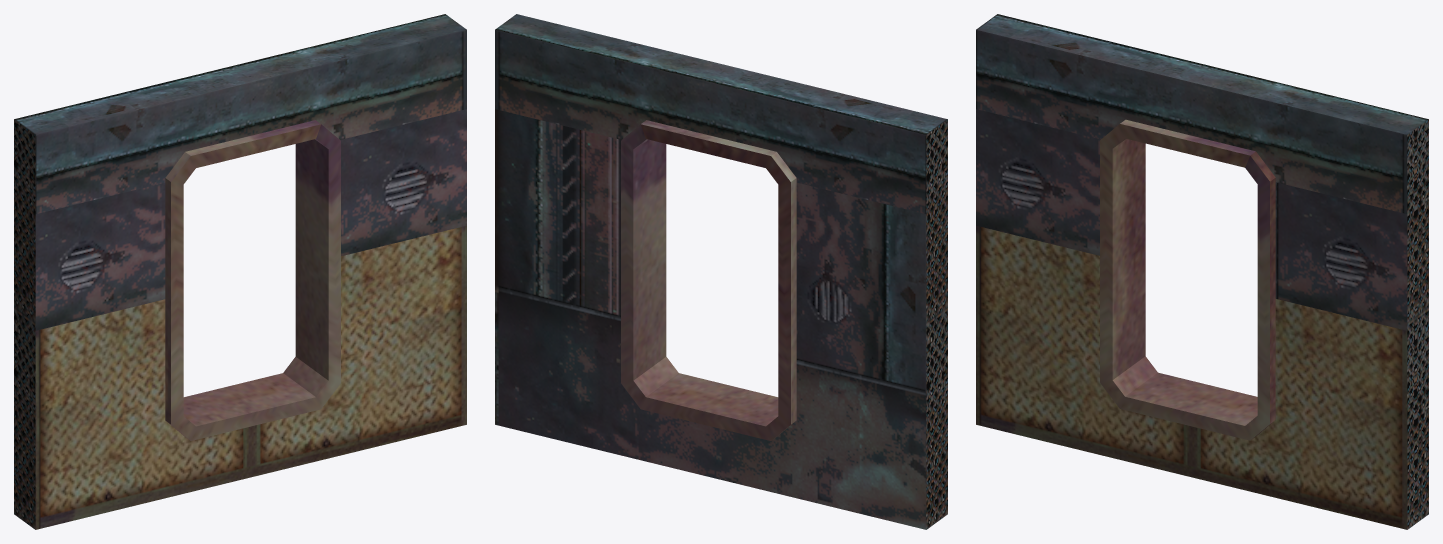
Rendered from SM_BLD_METALWALL_04.fbx.
3 views of the same model, side by side, from view 1: azimuth 30°, elevation 25°; view 2: azimuth 150°, elevation 25°; view 3: azimuth 330°, elevation 25° (orthographic).
Visible parts, largest first — view 1: SM_BLD_METALWALL_04; view 2: SM_BLD_METALWALL_04; view 3: SM_BLD_METALWALL_04.
Part boxes in pixels (x1,y1,x2,y2): SM_BLD_METALWALL_04: (14,14,466,529); SM_BLD_METALWALL_04: (495,14,947,529); SM_BLD_METALWALL_04: (976,14,1428,529).
Bounding box in the file's own units: 4 × 3.5 × 0.5297.
